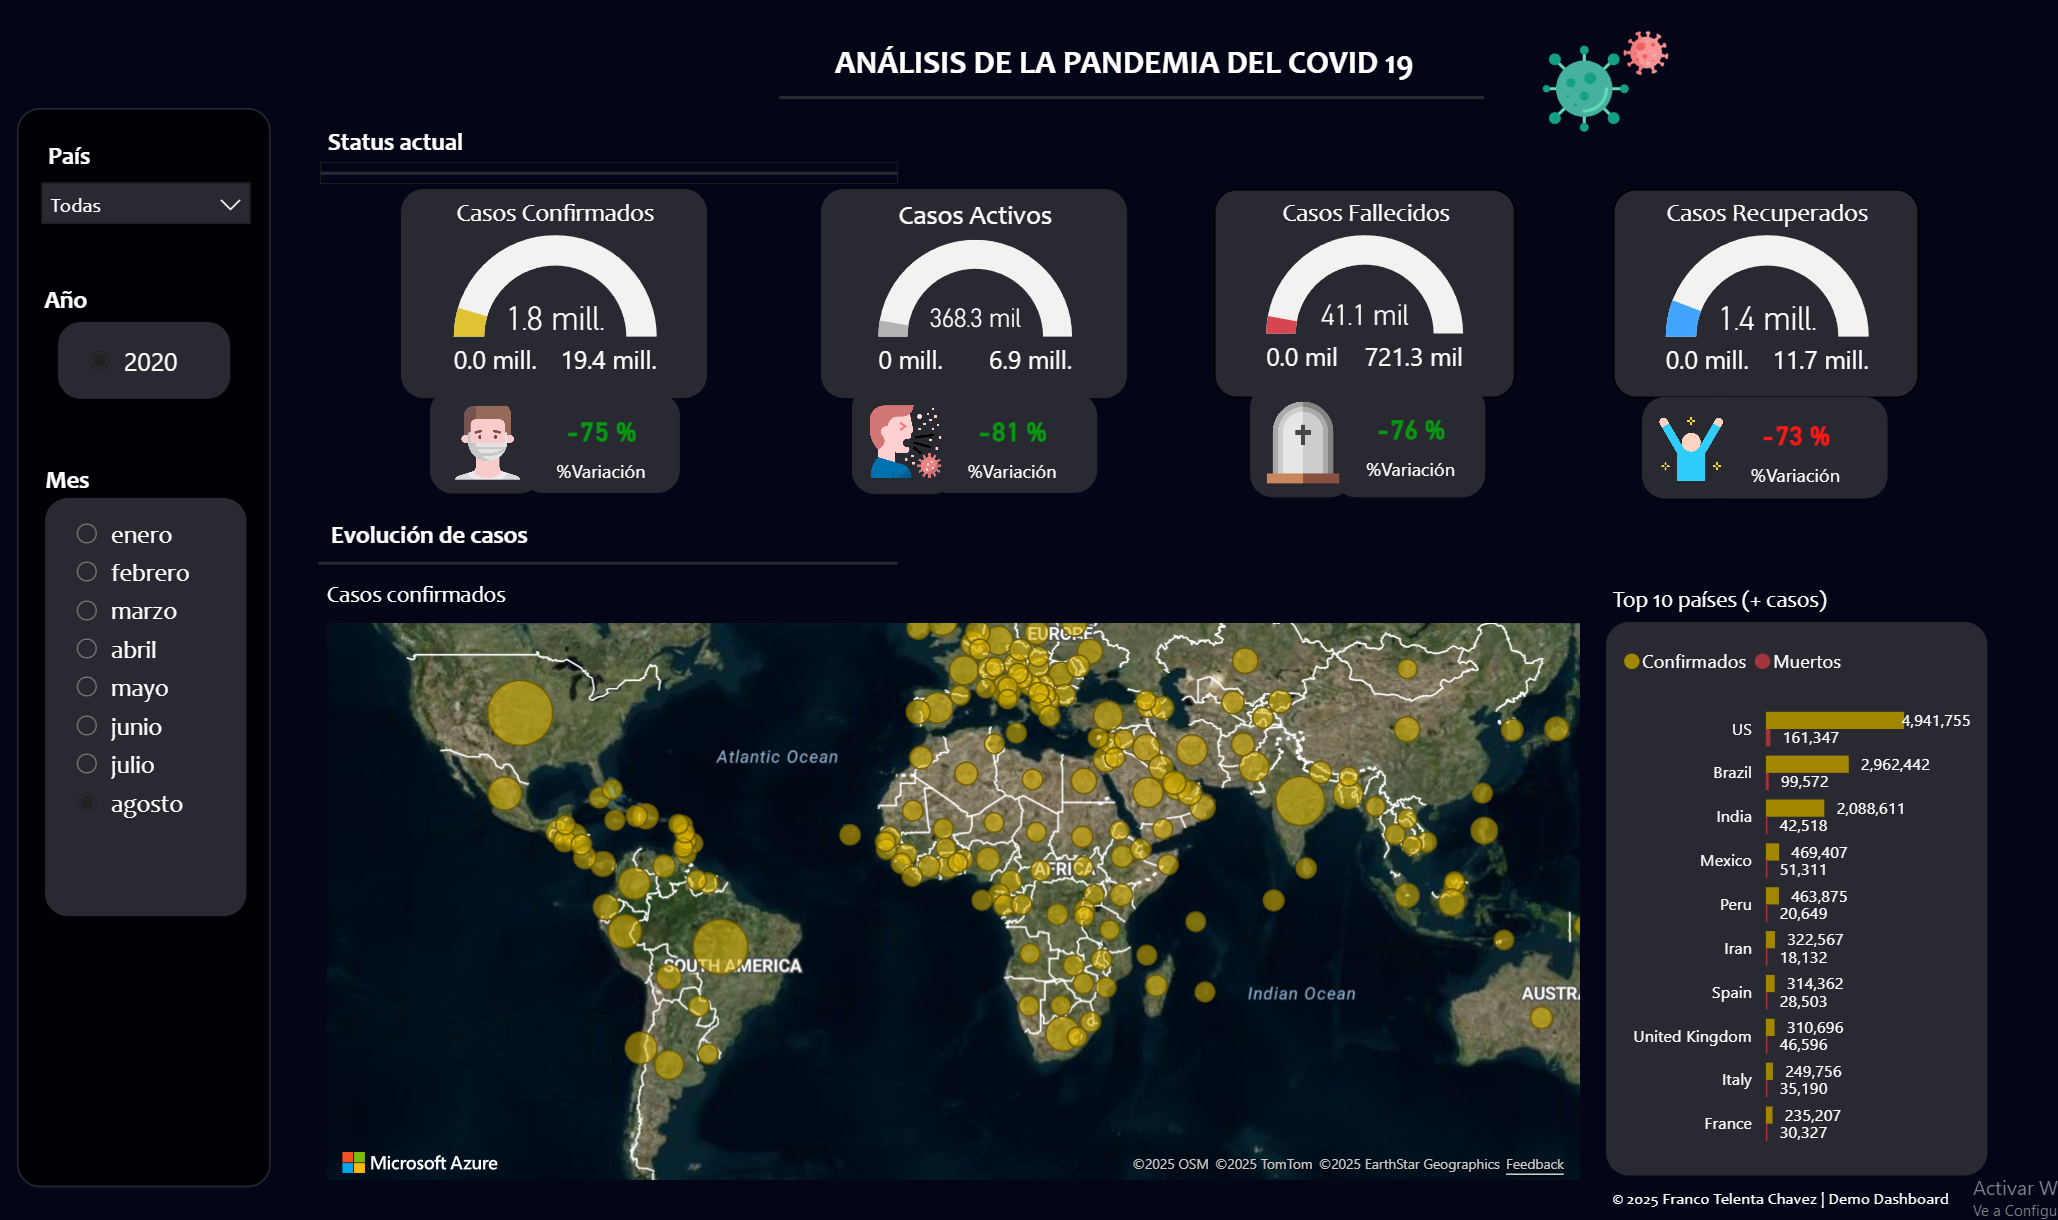

This screenshot's page, from the dashboard's own definition file:
{"tool":"powerbi","page":{"name":"PRINCIPAL","canvas":[1380,800],"ordinal":0},"visuals":[{"type":"textbox","box":[16.4,71.8,165.5,702.2],"z":0},{"type":"textbox","box":[470.8,24.2,530.8,51.4],"z":1000},{"type":"gauge","title":"Casos Confirmados","fields":{"MaxValue":["COVID19 - ACTUAL.CONFIRMADOS_U_S"],"Y":["COVID19 - ACTUAL.DIF_Confirmados_Mensual"]},"box":[266.1,124.4,198.7,136],"z":2000},{"type":"gauge","title":"Casos Fallecidos","fields":{"MaxValue":["COVID19 - ACTUAL.MUERTOS_U_S"],"Y":["COVID19 - ACTUAL.DIF_Muertos_Mensual"]},"box":[794.7,124.4,196,136],"z":3000},{"type":"gauge","title":"Casos Recuperados","fields":{"MaxValue":["COVID19 - ACTUAL.RECUPERADOS_U_S"],"Y":["COVID19 - ACTUAL.DIF_Recuperados_Mensual"]},"box":[1054.1,124.4,198.7,136],"z":4000},{"type":"azureMap","title":"Casos confirmados","fields":{"Category":["LOCATIONS.Country/Region"],"Size":["COVID19 - ACTUAL.CONFIRMADOS_U_S"]},"box":[212.6,378.8,824.6,395.2],"z":5000},{"type":"clusteredBarChart","fields":{"Category":["LOCATIONS.Country/Region"],"Y":["COVID19 - ACTUAL.CONFIRMADOS_U_S","COVID19 - ACTUAL.MUERTOS_U_S"]},"box":[1049.6,406.2,248.2,360.3],"z":6000},{"type":"slicer","fields":{"Values":["MiCalendarioAuto.Date.Variación.Jerarquía de fechas.Mes"]},"box":[34.5,325.5,130.6,272.1],"z":7000},{"type":"slicer","fields":{"Values":["MiCalendarioAuto.Date.Variación.Jerarquía de fechas.Año"]},"box":[42.7,210.6,112.1,49.9],"z":8000},{"type":"textbox","box":[12.8,181.6,69.8,42.9],"z":9000},{"type":"textbox","box":[14.2,298.3,69.3,42.7],"z":10000},{"type":"slicer","fields":{"Values":["LOCATIONS.Country/Region"]},"box":[22.2,110.1,155.9,61.5],"z":11000},{"type":"textbox","box":[14,87.5,71.8,44.4],"z":12000},{"type":"card","fields":{"Values":["COVID19 - ACTUAL.%Var_Confirmados_Mensual"]},"box":[343.5,257.1,103.5,65.5],"z":13000},{"type":"card","fields":{"Values":["COVID19 - ACTUAL.%Var_Muertos_Mensual"]},"box":[872,251.7,99.1,73.5],"z":14000},{"type":"card","fields":{"Values":["COVID19 - ACTUAL.%Var_Recuperados_Mensual"]},"box":[1110.6,259.4,122.4,66.3],"z":15000},{"type":"gauge","title":"Casos Activos","fields":{"MaxValue":["COVID19 - ACTUAL.ACTIVOS_U_S"],"Y":["COVID19 - ACTUAL.DIF_Activos_Mensual"]},"box":[539.5,124.4,198.7,136],"z":16000},{"type":"card","fields":{"Values":["COVID19 - ACTUAL.%Var_Activos_Mensual"]},"box":[607.1,257.1,111.5,65.5],"z":17000},{"type":"textbox","box":[213.5,78.6,145.3,45.3],"z":18000},{"type":"shape","box":[213.5,106.6,376,14.7],"z":19000},{"type":"textbox","box":[215.4,334.4,199,45.1],"z":20000},{"type":"shape","box":[212.3,360.1,377.3,14.7],"z":21000},{"type":"image","box":[1003.6,26.1,66.2,66.2],"z":22000},{"type":"image","box":[1056.1,12.3,38.8,47.5],"z":23000},{"type":"shape","box":[511.6,58,458.8,13.8],"z":24000},{"type":"image","box":[817.9,251.7,67.3,72.6],"z":25000},{"type":"image","box":[559.2,251.8,67.3,70.8],"z":26000},{"type":"image","box":[285.1,254.5,73.5,68.1],"z":27000},{"type":"textbox","box":[1048.9,377.4,199,45.1],"z":28000},{"type":"image","box":[1073.4,259.4,61.5,66.3],"z":29000},{"type":"textbox","box":[1048.9,765.8,255,28.7],"z":30000}]}

Visuals, with their boxes on the page's 1380x800 design canvas (x1, y1, x2, y2). These are canvas units, not pixel positions in the 2058x1220 screenshot, which may show the page scaled, cropped or inside an application window:
textbox: x1=16, y1=72, x2=182, y2=774
textbox: x1=471, y1=24, x2=1002, y2=76
"Casos Confirmados" gauge: x1=266, y1=124, x2=465, y2=260
"Casos Fallecidos" gauge: x1=795, y1=124, x2=991, y2=260
"Casos Recuperados" gauge: x1=1054, y1=124, x2=1253, y2=260
"Casos confirmados" azureMap: x1=213, y1=379, x2=1037, y2=774
clusteredBarChart - LOCATIONS.Country/Region x COVID19 - ACTUAL.CONFIRMADOS_U_S: x1=1050, y1=406, x2=1298, y2=766
slicer - MiCalendarioAuto.Date.Variación.Jerarquía de fechas.Mes: x1=34, y1=326, x2=165, y2=598
slicer - MiCalendarioAuto.Date.Variación.Jerarquía de fechas.Año: x1=43, y1=211, x2=155, y2=260
textbox: x1=13, y1=182, x2=83, y2=224
textbox: x1=14, y1=298, x2=84, y2=341
slicer - LOCATIONS.Country/Region: x1=22, y1=110, x2=178, y2=172
textbox: x1=14, y1=88, x2=86, y2=132
card - COVID19 - ACTUAL.%Var_Confirmados_Mensual: x1=344, y1=257, x2=447, y2=323
card - COVID19 - ACTUAL.%Var_Muertos_Mensual: x1=872, y1=252, x2=971, y2=325
card - COVID19 - ACTUAL.%Var_Recuperados_Mensual: x1=1111, y1=259, x2=1233, y2=326
"Casos Activos" gauge: x1=540, y1=124, x2=738, y2=260
card - COVID19 - ACTUAL.%Var_Activos_Mensual: x1=607, y1=257, x2=719, y2=323
textbox: x1=214, y1=79, x2=359, y2=124
shape: x1=214, y1=107, x2=590, y2=121
textbox: x1=215, y1=334, x2=414, y2=380
shape: x1=212, y1=360, x2=590, y2=375
image: x1=1004, y1=26, x2=1070, y2=92
image: x1=1056, y1=12, x2=1095, y2=60
shape: x1=512, y1=58, x2=970, y2=72
image: x1=818, y1=252, x2=885, y2=324
image: x1=559, y1=252, x2=626, y2=323
image: x1=285, y1=254, x2=359, y2=323
textbox: x1=1049, y1=377, x2=1248, y2=422
image: x1=1073, y1=259, x2=1135, y2=326
textbox: x1=1049, y1=766, x2=1304, y2=794
